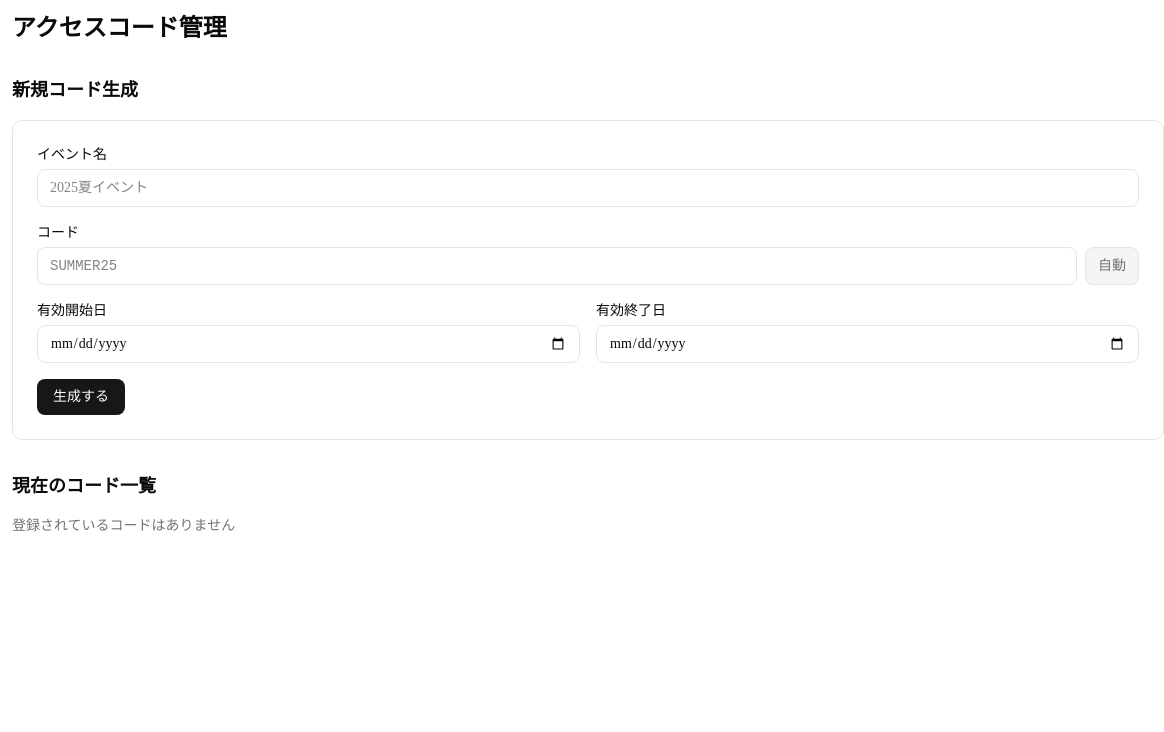
AccessCodeAdminPanel › 終了日が開始日より前の場合にバリデーションエラーを表示する
In the field labelled "イベント名": (588, 188) [37,169,1139,207], type "テストイベント"
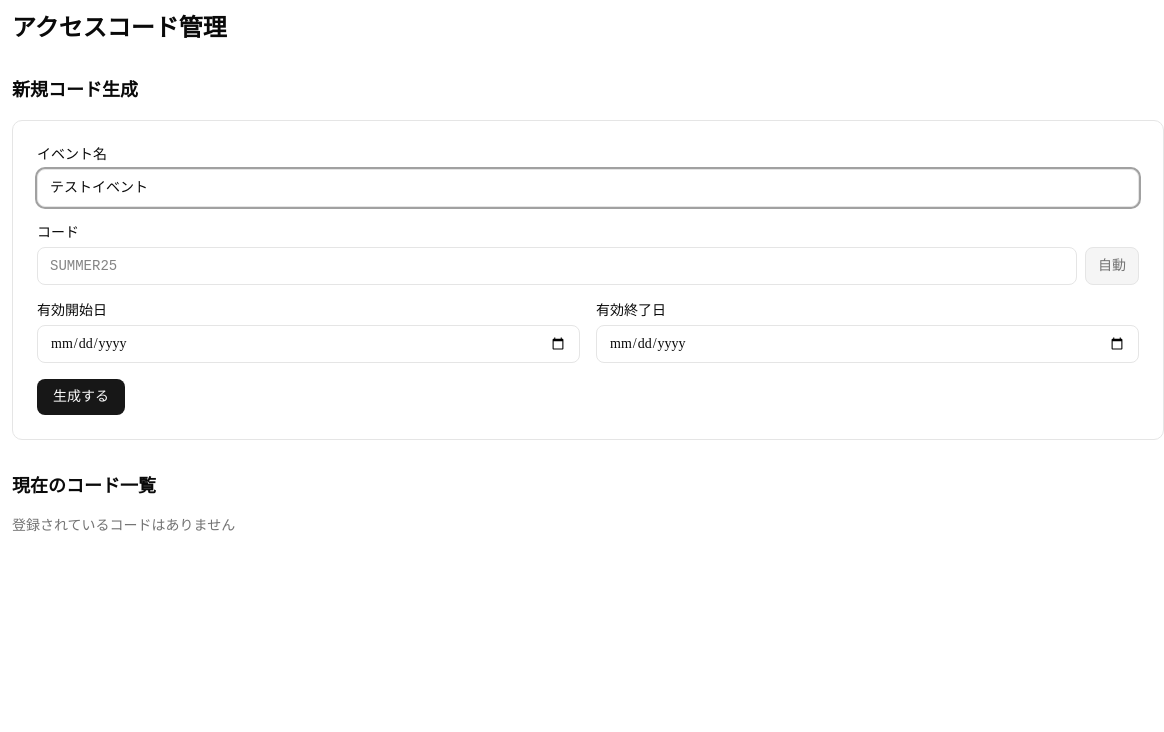
In the field labelled "コード": (557, 266) [37,247,1077,285], type "TEST01"
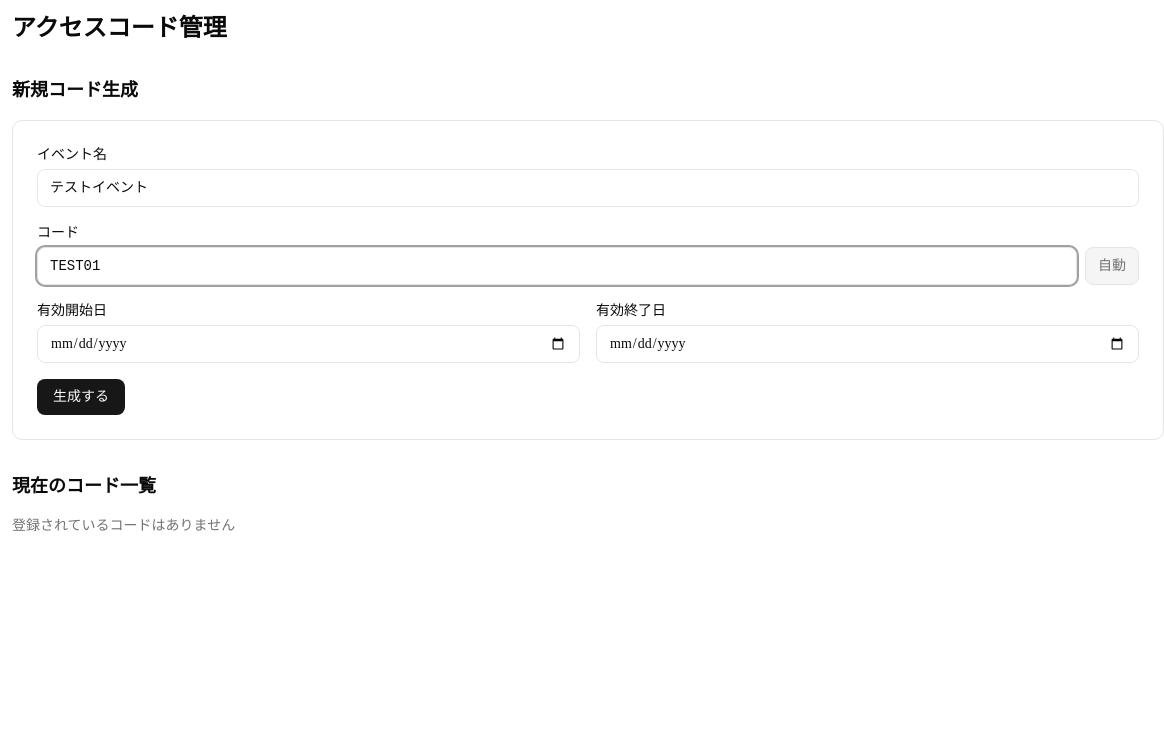
In the date field labelled "有効開始日": (308, 344) [37,325,580,363], type "2025-08-01"
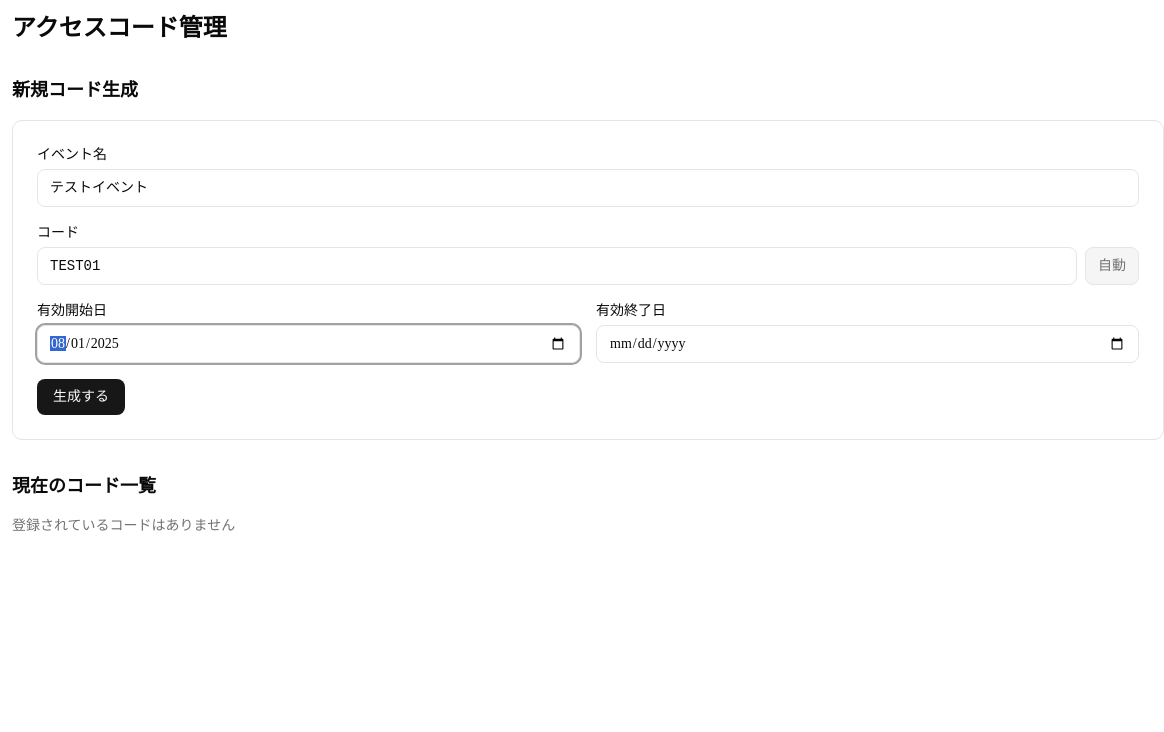
In the date field labelled "有効終了日": (868, 344) [596,325,1139,363], type "2025-07-01"
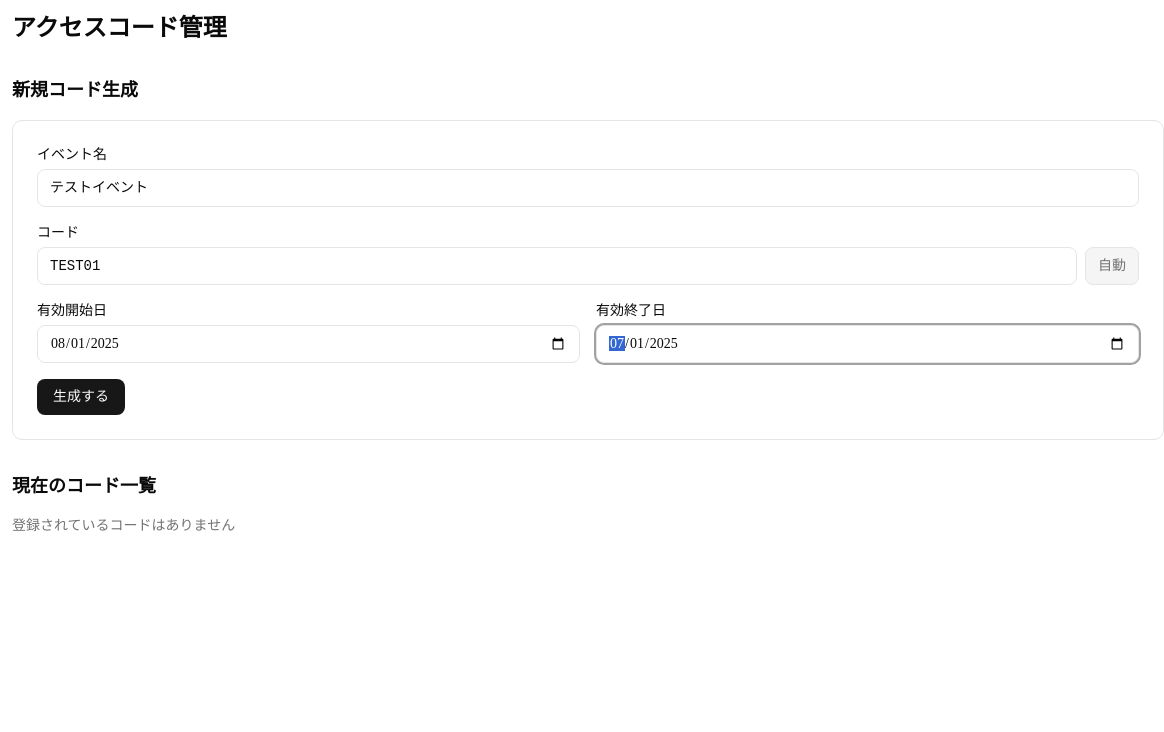
Click the button "生成する": (81, 397) [37,379,125,415]
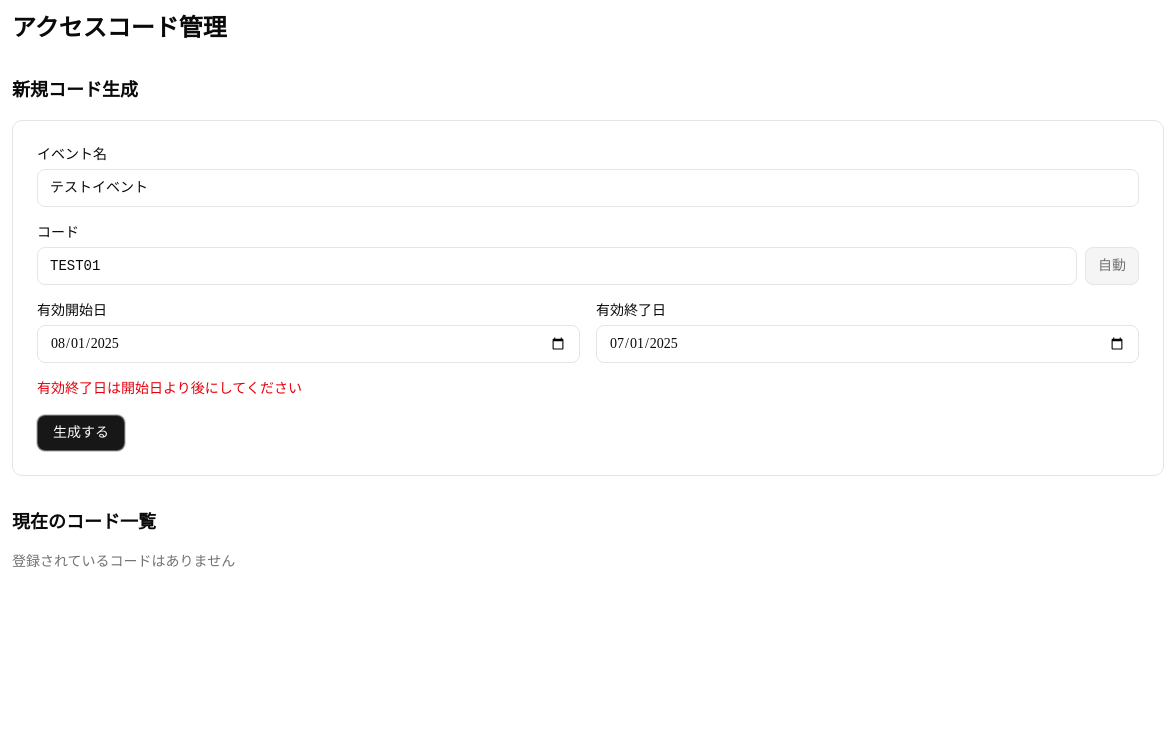
Expected: the message reads "有効終了日は開始日より後にしてください", [37,381,302,396]
